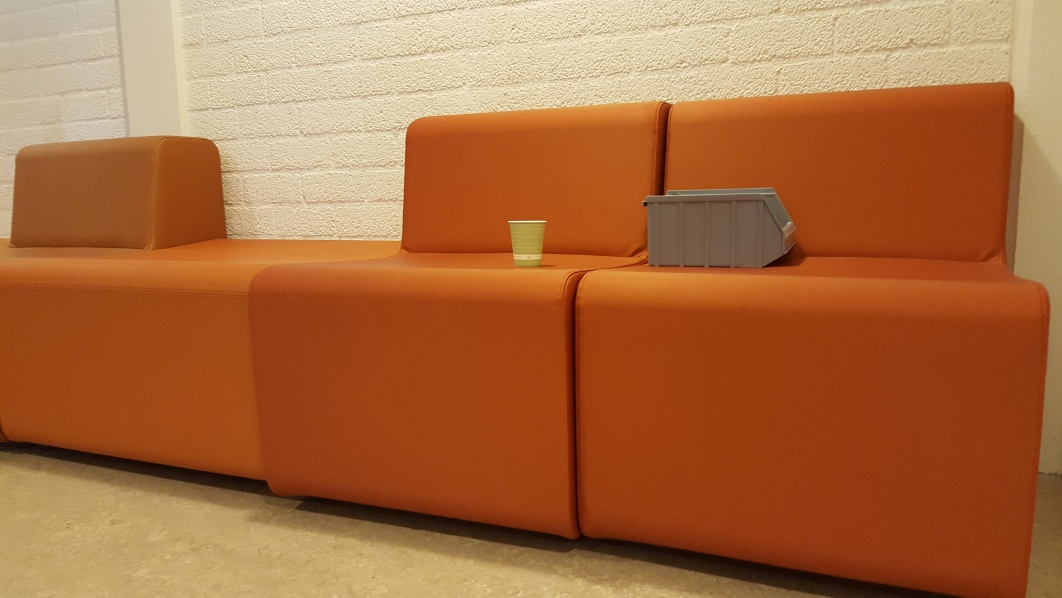cup: (506, 217, 549, 268)
tray: (643, 185, 797, 269)
